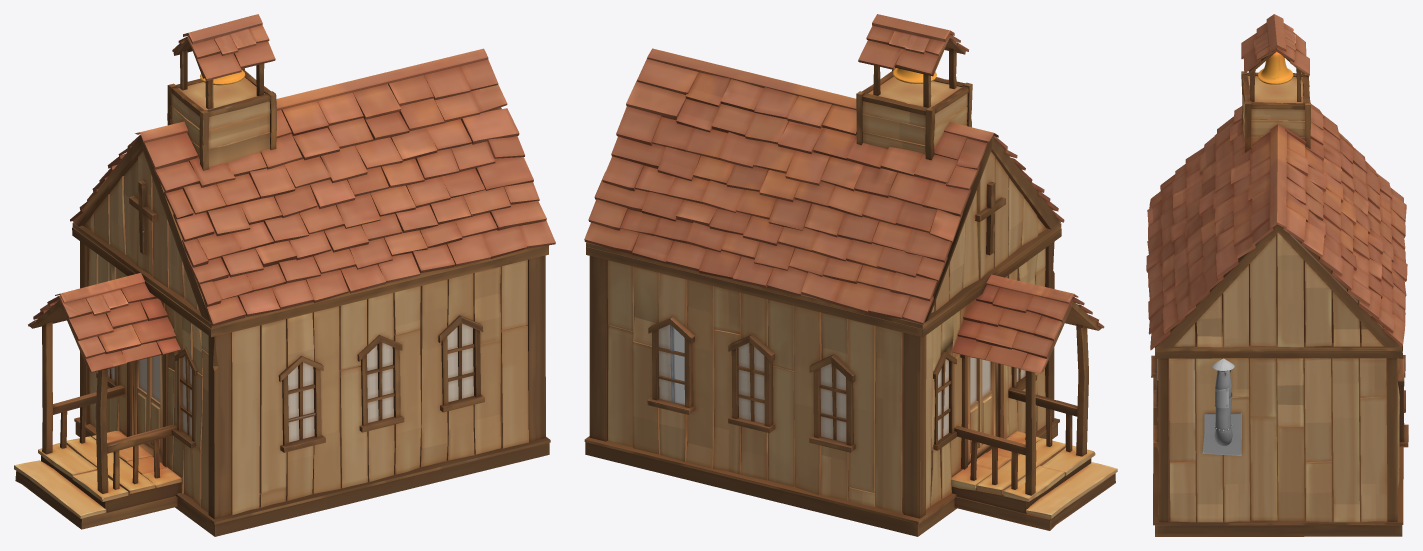
Rendered from eglise-3.glb.
The picture shows the model from 3 angles, left to right: view 1: azimuth 30°, elevation 25°; view 2: azimuth 150°, elevation 25°; view 3: azimuth 270°, elevation 25°; orthographic projection. The views are drawn at different scales.
Visible parts, largest first — view 1: Object_4; view 2: Object_4; view 3: Object_4.
Part boxes in pixels (bbox=[...]): Object_4: bbox=[14, 14, 555, 536]; Object_4: bbox=[584, 14, 1117, 536]; Object_4: bbox=[1146, 14, 1408, 536].
Bounding box in the file's own units: 10.17 × 9.33 × 5.6.
1 material, 1 textured.
